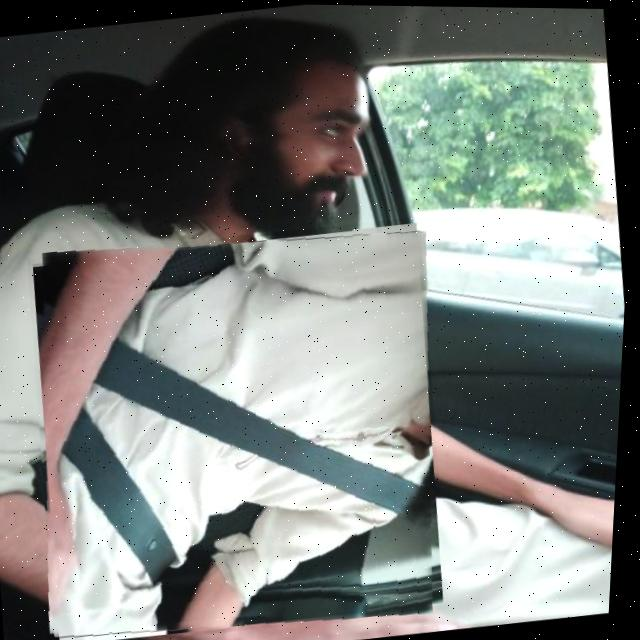seatbelt: (14, 209, 469, 640)
